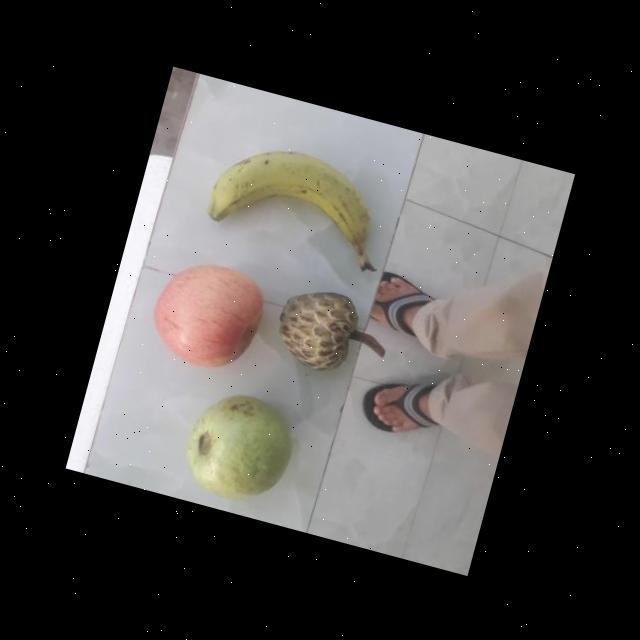Sakya fruit: (266, 279, 363, 381)
apple: (142, 248, 270, 380)
banana: (204, 132, 386, 268)
guava: (176, 384, 298, 514)
